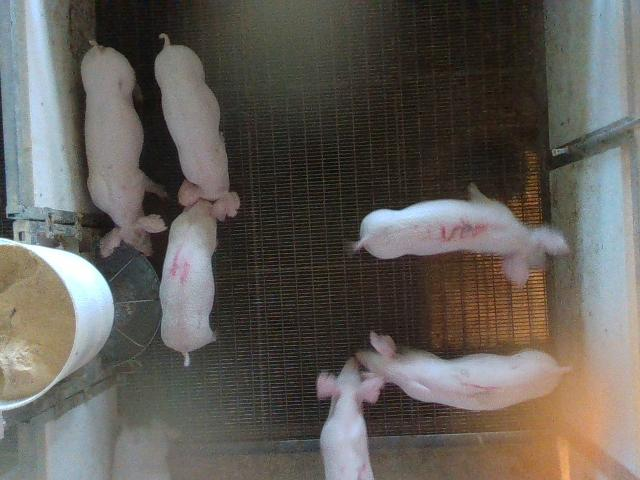pig-1: (356, 332, 570, 411)
pig-3: (352, 184, 569, 287)
pig-4: (159, 180, 239, 366)
